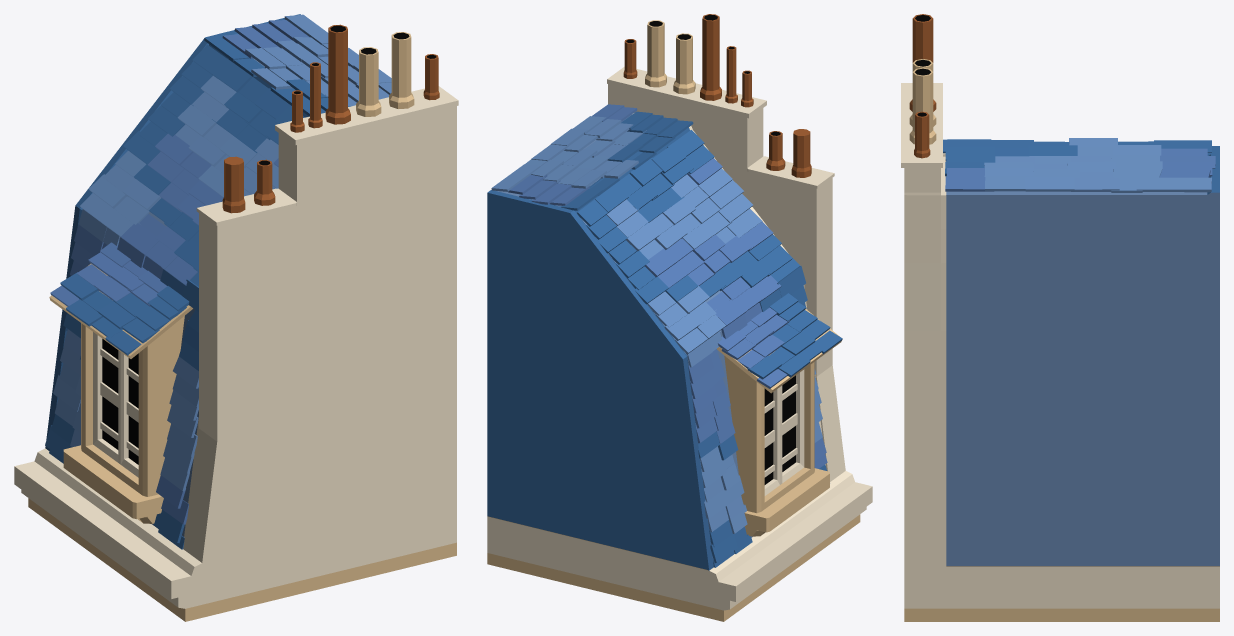
The model's file is RoofEdge_B_2.fbx.
The picture shows the model from 3 angles, left to right: view 1: azimuth 30°, elevation 25°; view 2: azimuth 150°, elevation 25°; view 3: azimuth 270°, elevation 25°; orthographic projection. The views are drawn at different scales.
Visible parts, largest first — view 1: RoofEdge_B_2; view 2: RoofEdge_B_2; view 3: RoofEdge_B_2.
Part boxes in pixels (<box>): RoofEdge_B_2: <box>14,14,458,621</box>; RoofEdge_B_2: <box>487,14,872,621</box>; RoofEdge_B_2: <box>901,14,1219,621</box>.
Size of the model in its own units: 215 by 202 by 384.
